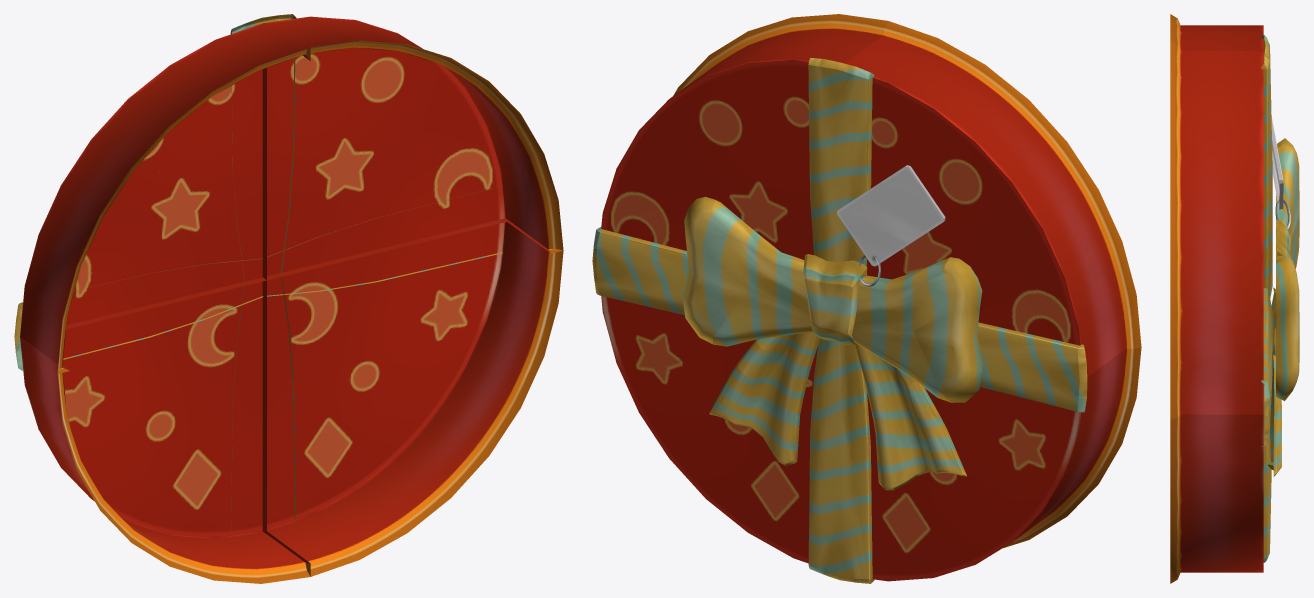
Rendered from JewelryBox02_Wheel.fbx.
The picture shows the model from 3 angles, left to right: view 1: azimuth 30°, elevation 25°; view 2: azimuth 150°, elevation 25°; view 3: azimuth 270°, elevation 25°; orthographic projection. The views are drawn at different scales.
Parts seen in each view (by area): view 1: JewelryBox02_Wheel2; view 2: JewelryBox02_Wheel2; view 3: JewelryBox02_Wheel2.
Boxes of the visible parts, bbox=[...] form: JewelryBox02_Wheel2: bbox=[14, 14, 563, 583]; JewelryBox02_Wheel2: bbox=[592, 14, 1141, 583]; JewelryBox02_Wheel2: bbox=[1170, 14, 1299, 583].
Size of the model in its own units: 542 by 542 by 123.
